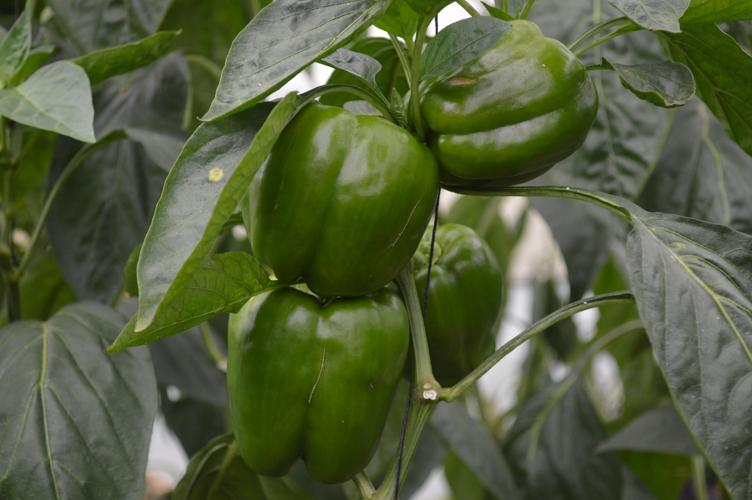BellPepper: (229, 111, 435, 317), (214, 288, 397, 471), (404, 26, 585, 207), (400, 248, 513, 361)
